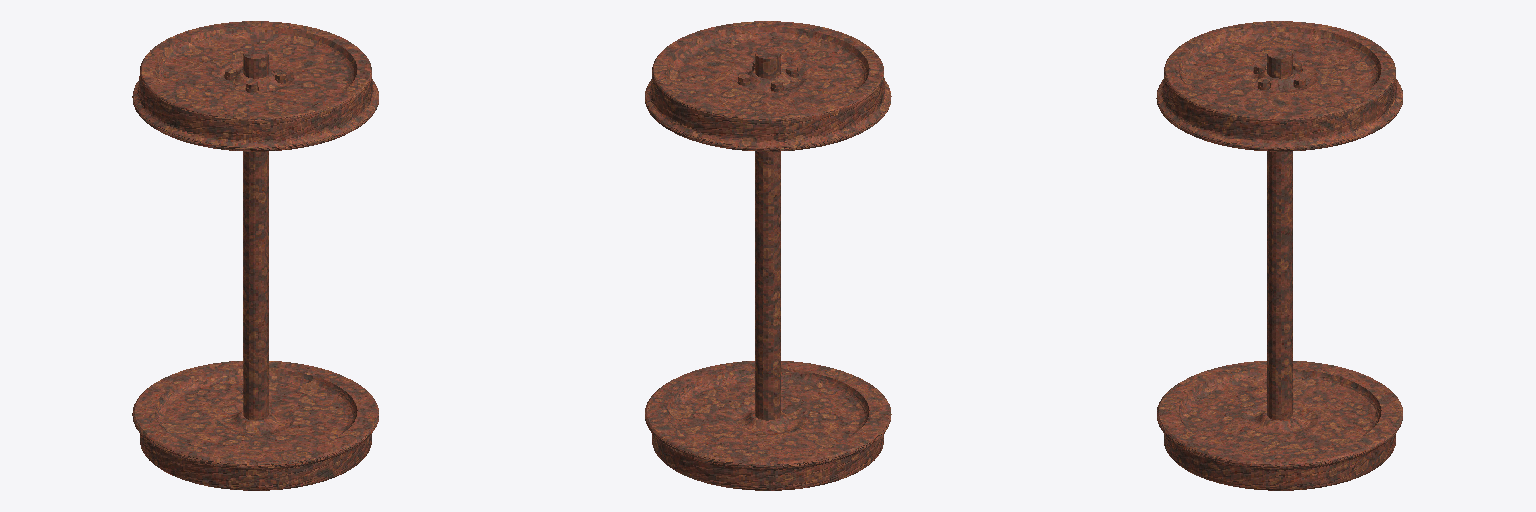
The picture shows the model from 3 angles: view 1: azimuth 30°, elevation 25°; view 2: azimuth 150°, elevation 25°; view 3: azimuth 270°, elevation 25°; orthographic projection.
Visible parts, largest first — view 1: Mesh_WheelsetOriginal; view 2: Mesh_WheelsetOriginal; view 3: Mesh_WheelsetOriginal.
Boxes of the visible parts, box(x1,y1,x2,y2) form: Mesh_WheelsetOriginal: box(132, 21, 378, 490); Mesh_WheelsetOriginal: box(645, 21, 891, 490); Mesh_WheelsetOriginal: box(1156, 21, 1402, 490).
Bounding box in the file's own units: 0.9678 × 1.75 × 0.9679.
1 materials, 1 textured.